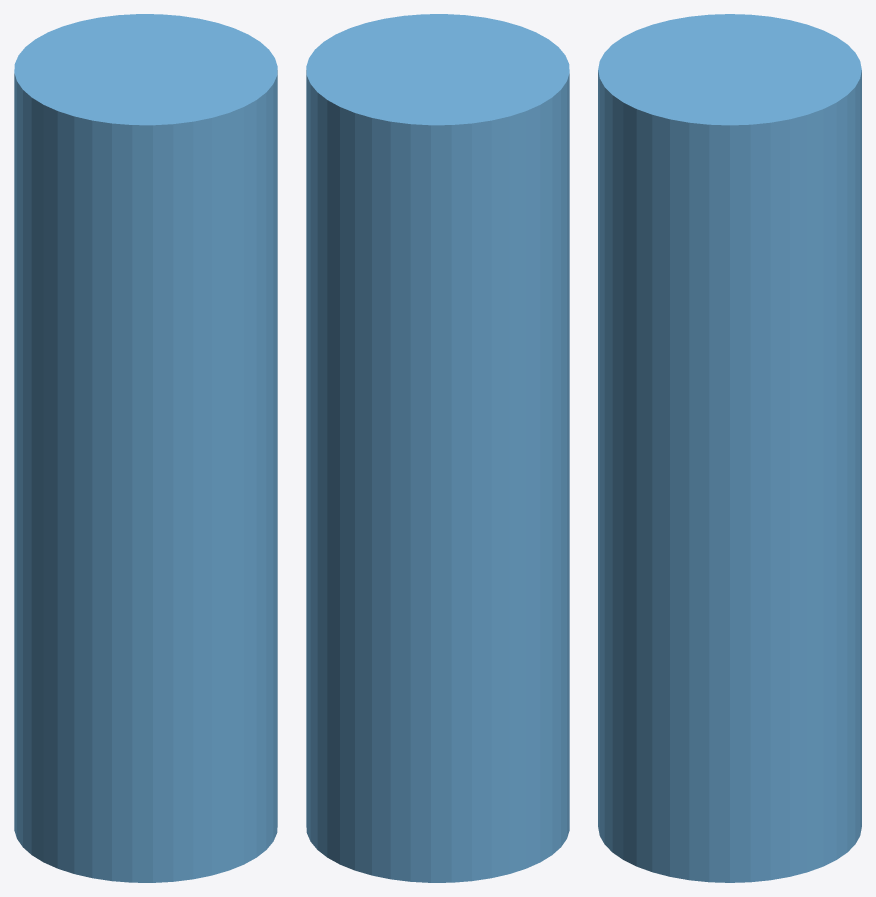
Rendered from rec_pet_bottle_0060.glb.
3 renders of one model, left to right at view 1: azimuth 30°, elevation 25°; view 2: azimuth 150°, elevation 25°; view 3: azimuth 270°, elevation 25°, orthographic.
Parts seen in each view (by area): view 1: z-up-to-y-up; view 2: z-up-to-y-up; view 3: z-up-to-y-up.
Part boxes in pixels (x1=…): z-up-to-y-up: x1=14, y1=14, x2=277, y2=882; z-up-to-y-up: x1=306, y1=14, x2=569, y2=882; z-up-to-y-up: x1=598, y1=14, x2=861, y2=882.
Bounding box in the file's own units: 0.0659 × 0.2089 × 0.0659.
